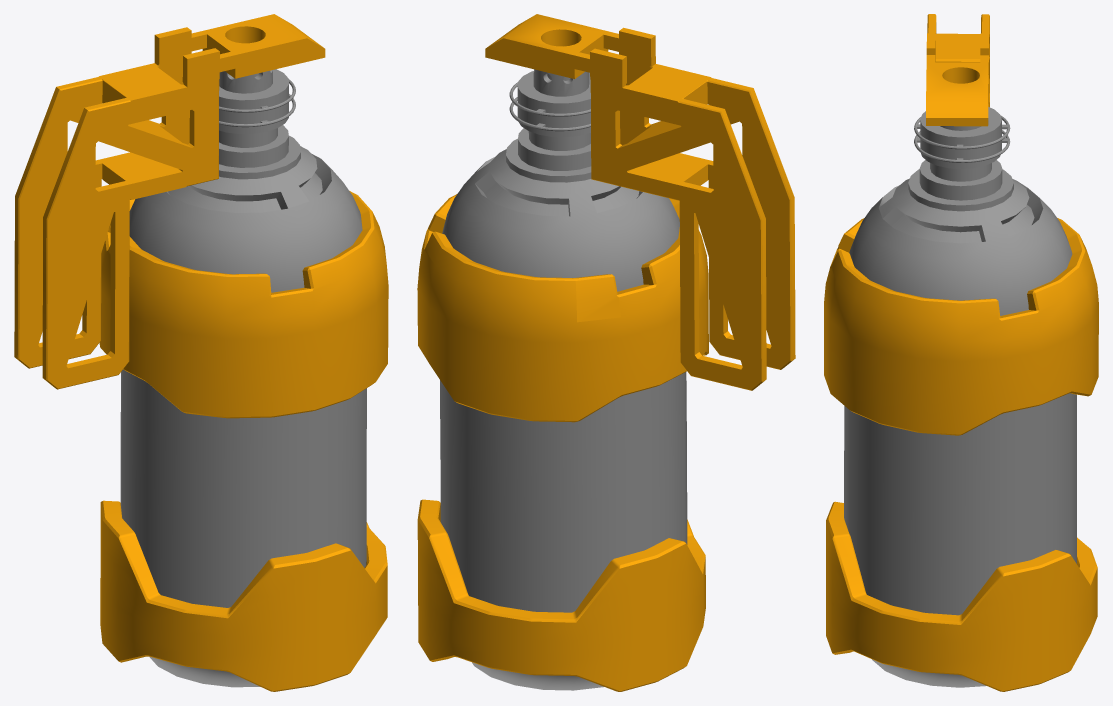
Rendered from Obsticale2.FBX.
3 renders of one model, left to right at view 1: azimuth 30°, elevation 25°; view 2: azimuth 150°, elevation 25°; view 3: azimuth 270°, elevation 25°, orthographic. The views are drawn at different scales.
Parts seen in each view (by area): view 1: polySurface2; view 2: polySurface2; view 3: polySurface2.
Part boxes in pixels (x1,y1,x2,y2): polySurface2: (14, 14, 388, 691); polySurface2: (417, 14, 795, 691); polySurface2: (824, 14, 1098, 691).
Bounding box in the file's own units: 55.07 × 40.85 × 95.37.
